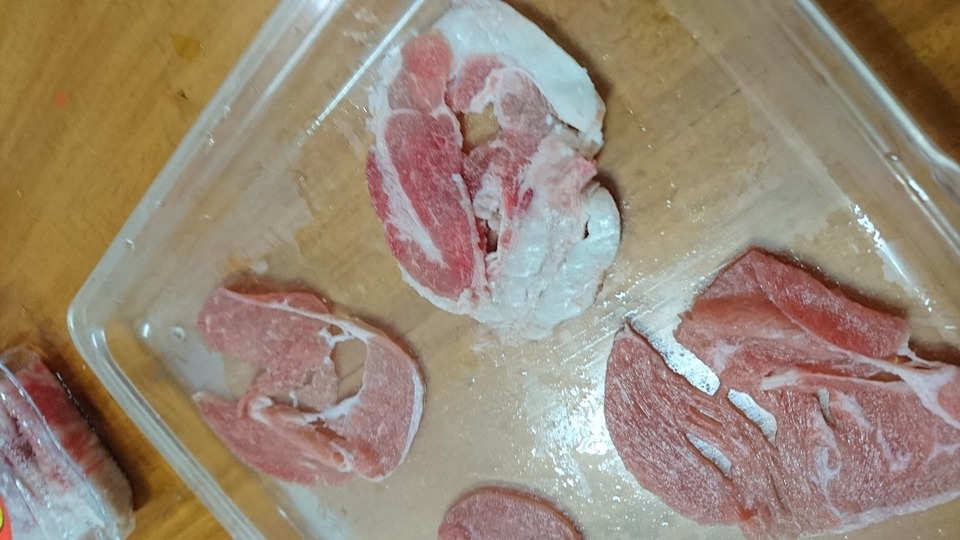restructured meat: (619, 265, 960, 537), (353, 22, 640, 326), (167, 283, 436, 495), (421, 478, 590, 540)
